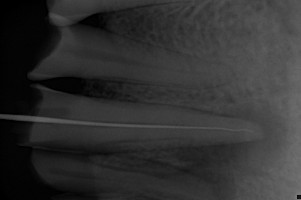Furcation Involvement: (174, 103, 289, 200)
